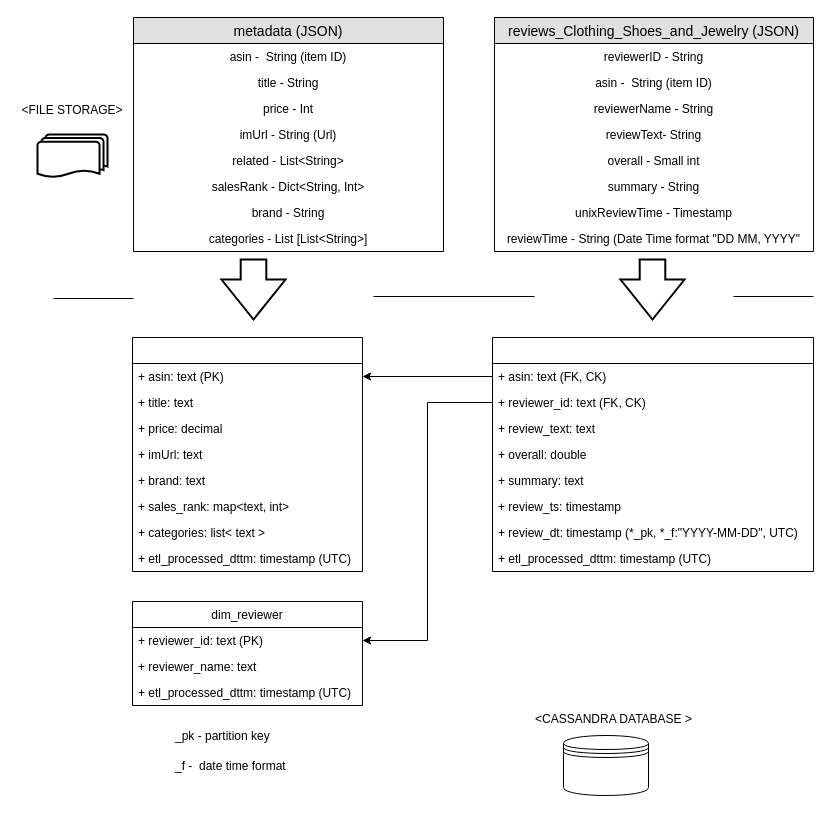
Image size: 839x813. Some labels were removed from this diagram. The shapes that lost their labels are listed below. From the top down, each one's box as (x1, y1, x2, y2) in pixels, then its label:
(132, 336, 362, 572): dim_item
(492, 336, 814, 572): fct_review
